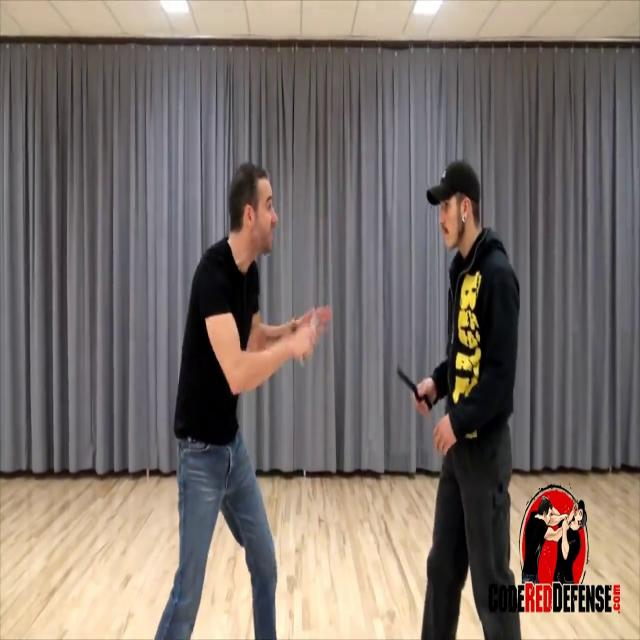Knife_Handle: (396, 366, 438, 415)
